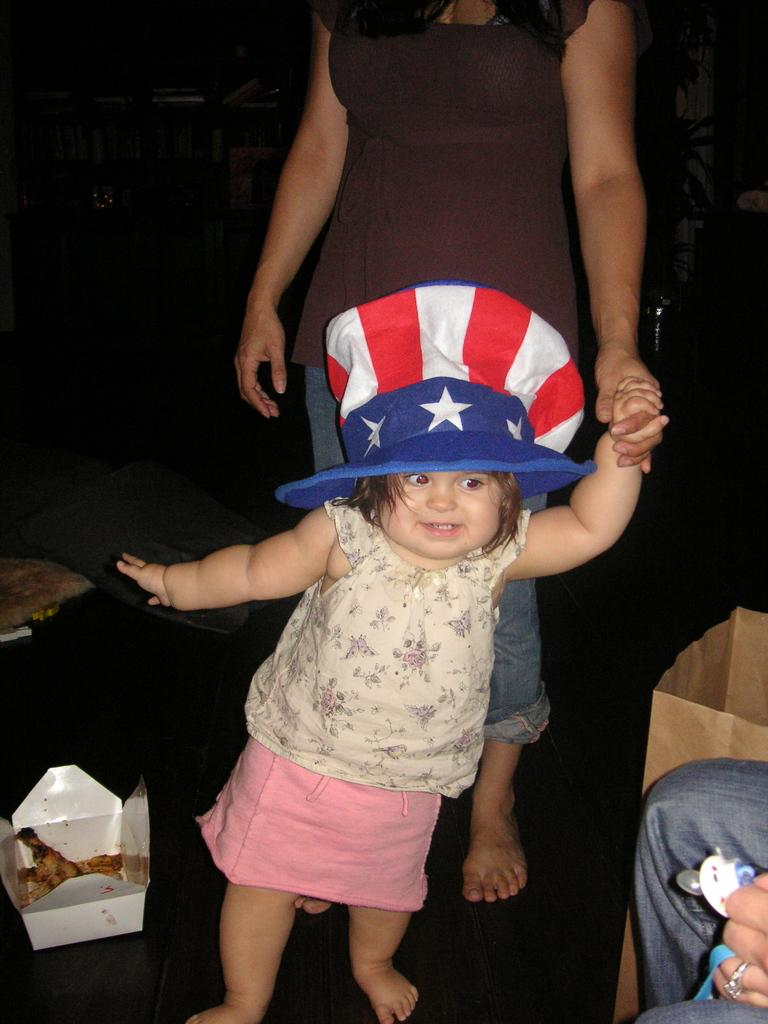Hat: (276, 280, 598, 513)
